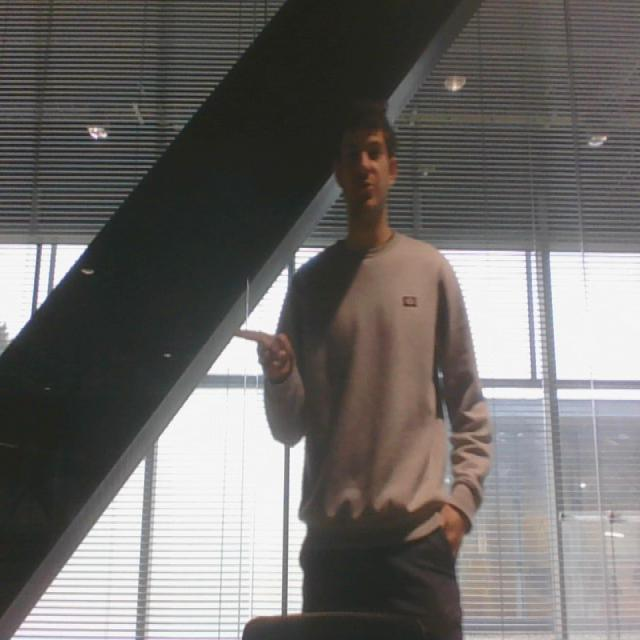left: (230, 316, 298, 386)
